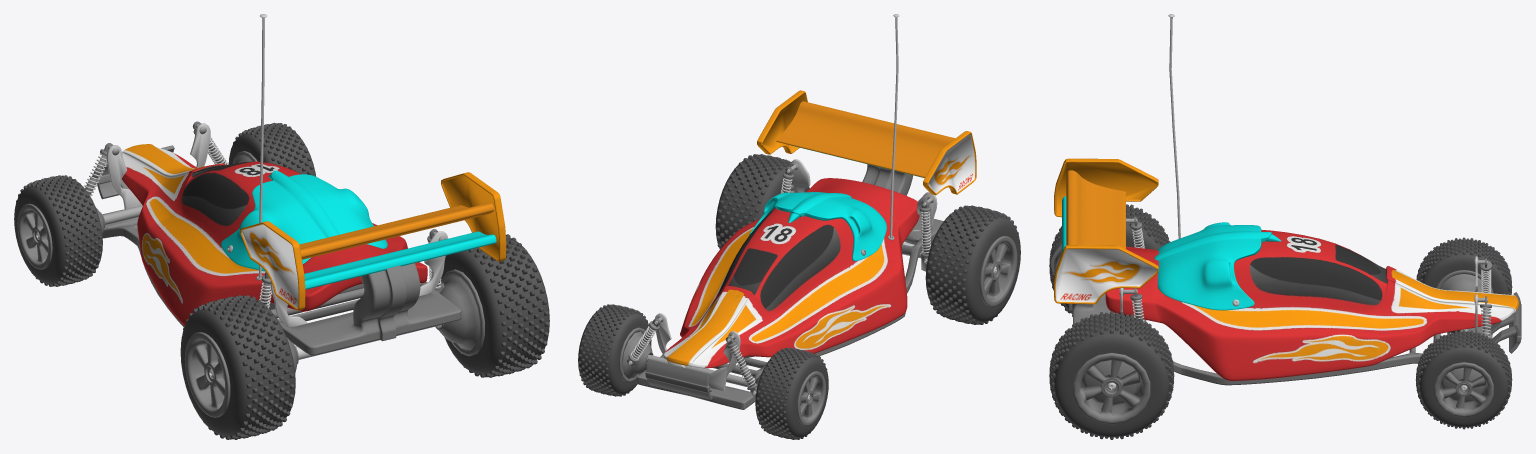
Rendered from rc_car-transformed.glb.
3 views of the same model, side by side, from view 1: azimuth 30°, elevation 25°; view 2: azimuth 150°, elevation 25°; view 3: azimuth 270°, elevation 25° (orthographic). The views are drawn at different scales.
Parts seen in each view (by area): view 1: tire_tread_324.003, Body1, bevelPolygon4, bevelPolygon3; view 2: tire_tread_324.003, Body1, bevelPolygon4, bevelPolygon3; view 3: tire_tread_324.003, Body1, bevelPolygon3, bevelPolygon4.
Part boxes in pixels (left/top/right/bottom): tire_tread_324.003: left=14, top=14, right=549, bottom=439; Body1: left=122, top=144, right=427, bottom=325; bevelPolygon4: left=240, top=221, right=305, bottom=310; bevelPolygon3: left=441, top=172, right=506, bottom=261; tire_tread_324.003: left=578, top=14, right=1020, bottom=439; Body1: left=663, top=178, right=919, bottom=368; bevelPolygon4: left=923, top=131, right=976, bottom=195; bevelPolygon3: left=757, top=90, right=807, bottom=154; tire_tread_324.003: left=1049, top=14, right=1521, bottom=439; Body1: left=1105, top=229, right=1518, bottom=380; bevelPolygon3: left=1054, top=245, right=1158, bottom=304; bevelPolygon4: left=1054, top=158, right=1158, bottom=217.
Bounding box in the file's own units: 0.1852 × 0.2103 × 0.27.
4 materials, 4 textured.
